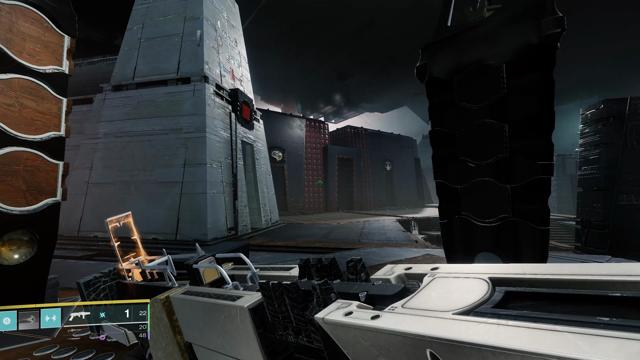brain: (270, 148, 284, 163)
drink: (384, 159, 393, 171)
stop: (240, 99, 252, 124)
